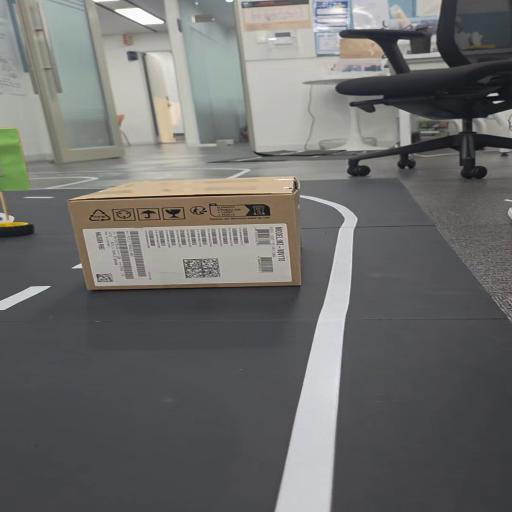Box: (58, 176, 306, 297)
